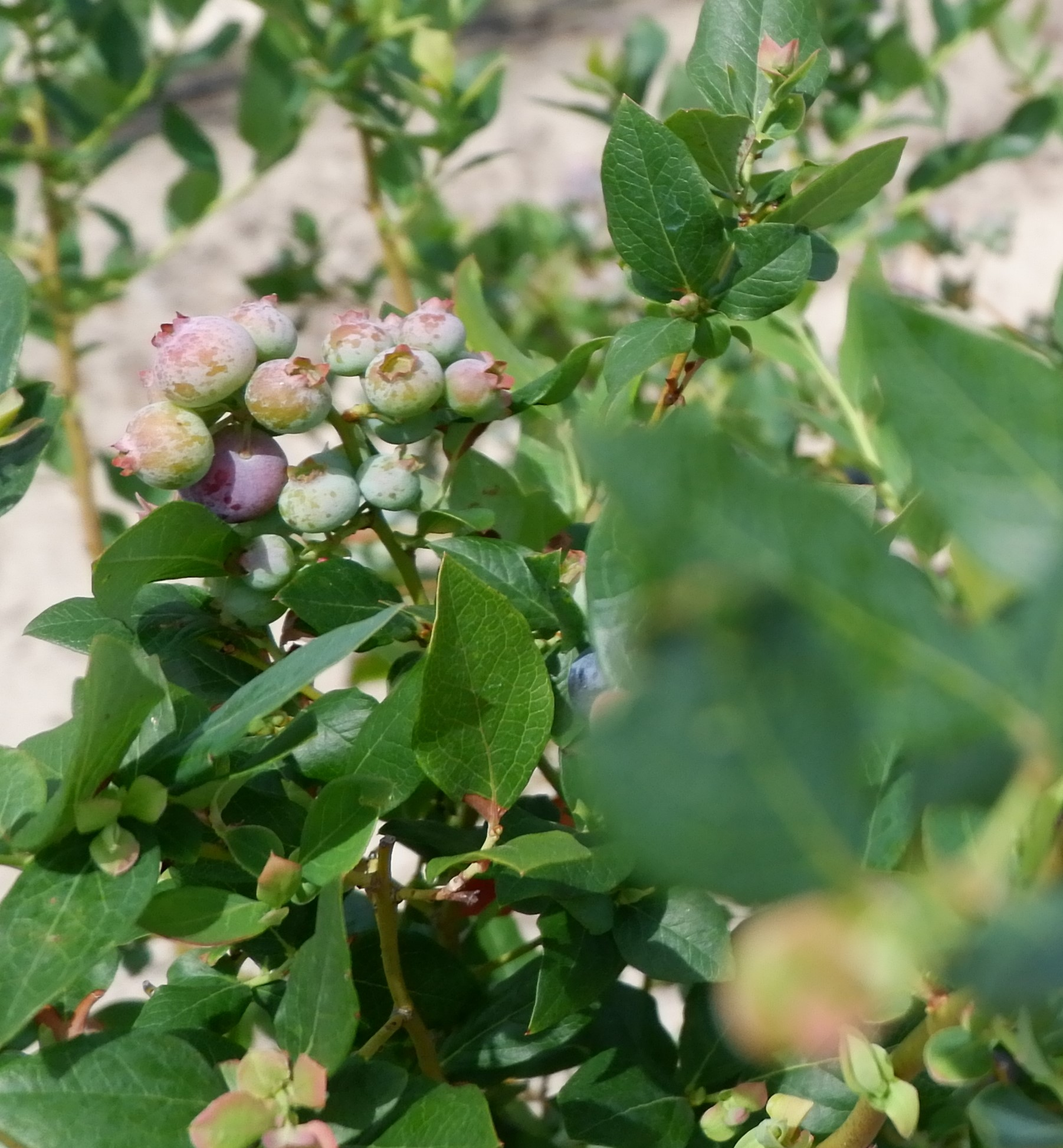Immature: (178, 425, 290, 524), (151, 311, 256, 411), (109, 402, 215, 491), (247, 358, 334, 435), (278, 457, 359, 534), (364, 345, 444, 418), (395, 297, 470, 369), (320, 308, 396, 378), (221, 295, 297, 363), (443, 359, 517, 424), (356, 447, 426, 512), (223, 535, 293, 594), (214, 576, 288, 629), (366, 406, 438, 447), (376, 301, 402, 345), (137, 367, 167, 404)
